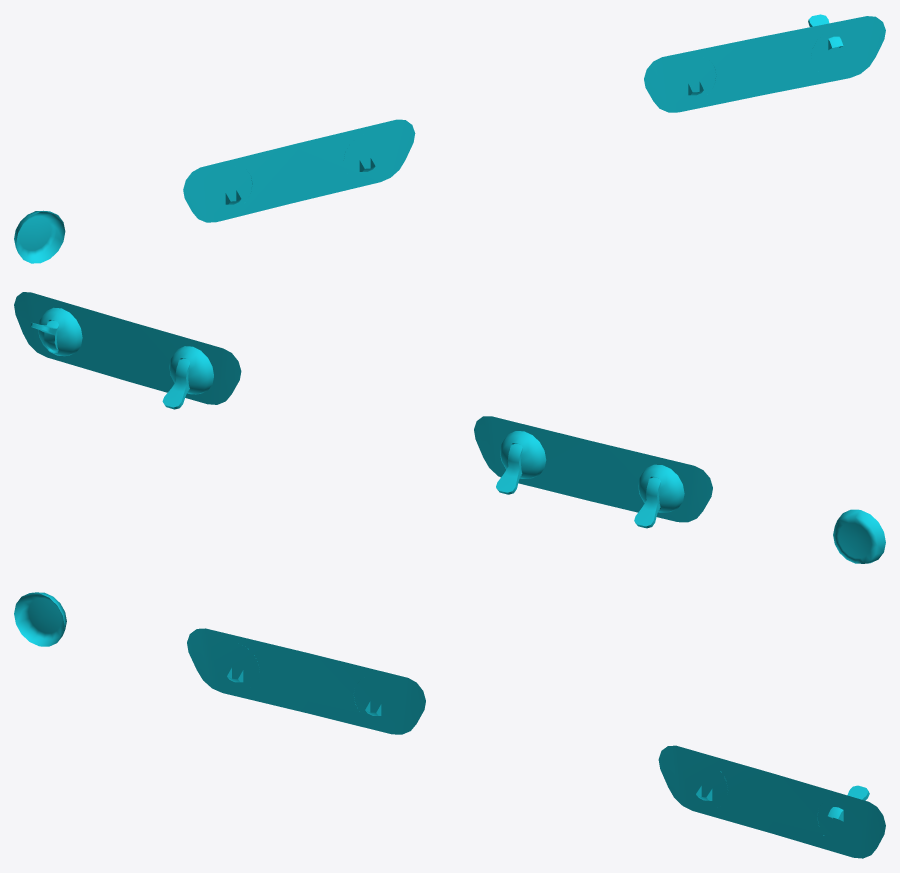
File: UCP_Autobello.dae
3 views of the same model, one above another, from view 1: azimuth 30°, elevation 25°; view 2: azimuth 150°, elevation 25°; view 3: azimuth 330°, elevation 25° (orthographic). The views are drawn at different scales.
Parts seen in each view (by area): view 1: autobello_interior_switches; view 2: autobello_interior_switches; view 3: autobello_interior_switches.
Boxes of the visible parts, box(x1,y1,x2,y2) form: autobello_interior_switches: box(14, 14, 885, 263); autobello_interior_switches: box(14, 292, 885, 563); autobello_interior_switches: box(14, 592, 885, 858).
Size of what is drawn, in the model's own units: 0.4771 by 0.0343 by 0.0312.
